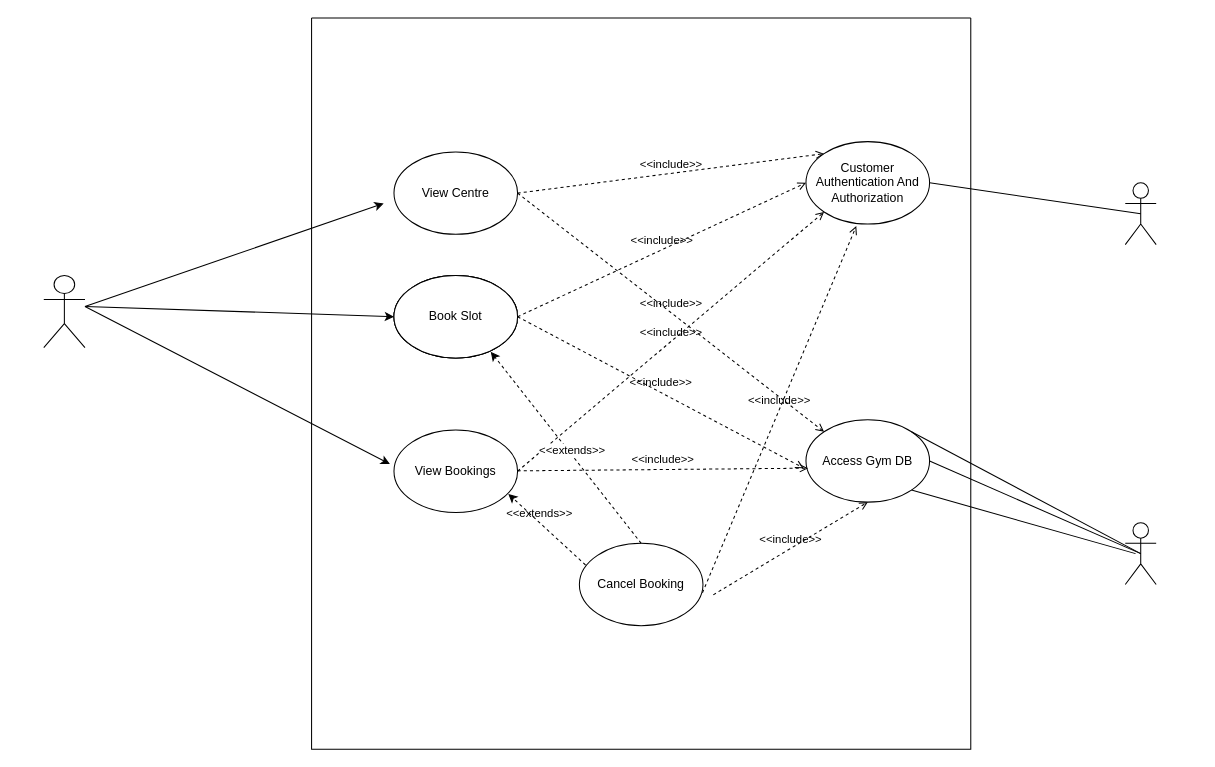
This 1215x767 diagram has some shape labels left out. The shapes that lost their labels are listed below. From the top down, each one's centre as x and y in pixels, then its label:
point (1140, 213): Credential Database
point (64, 311): Flipfit Customers
point (1140, 553): Flipfit Gym Database
